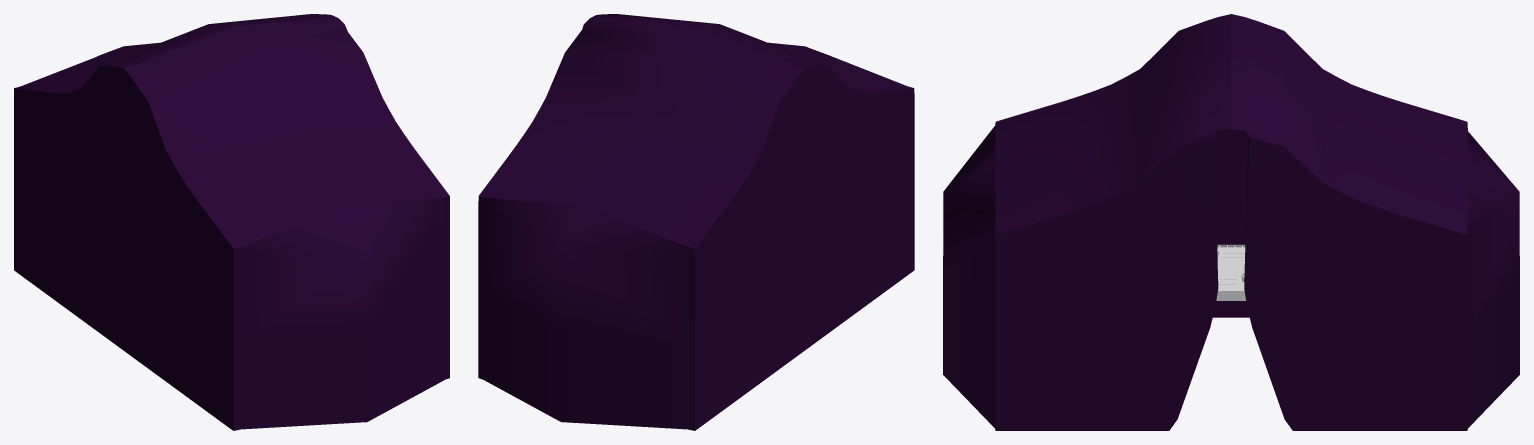
File: mesh_tablero.fbx
The picture shows the model from 3 angles, left to right: view 1: azimuth 30°, elevation 25°; view 2: azimuth 150°, elevation 25°; view 3: azimuth 270°, elevation 25°; orthographic projection. The views are drawn at different scales.
Visible parts, largest first — view 1: carpa; view 2: carpa; view 3: carpa, mesa.
Boxes of the visible parts, left/top/right/bottom form: carpa: left=14, top=14, right=449, bottom=430; carpa: left=478, top=14, right=914, bottom=430; carpa: left=943, top=14, right=1519, bottom=430; mesa: left=1216, top=245, right=1245, bottom=300.
Size of the model in its own units: 1273 by 1670 by 2731.
